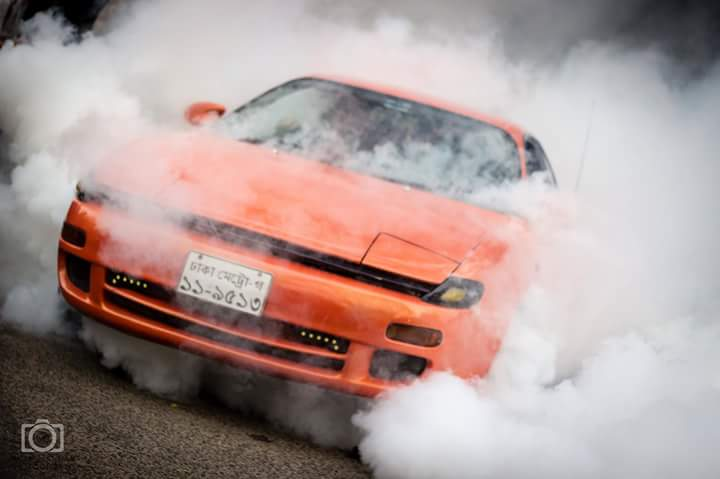registration_plate: (176, 251, 272, 317)
